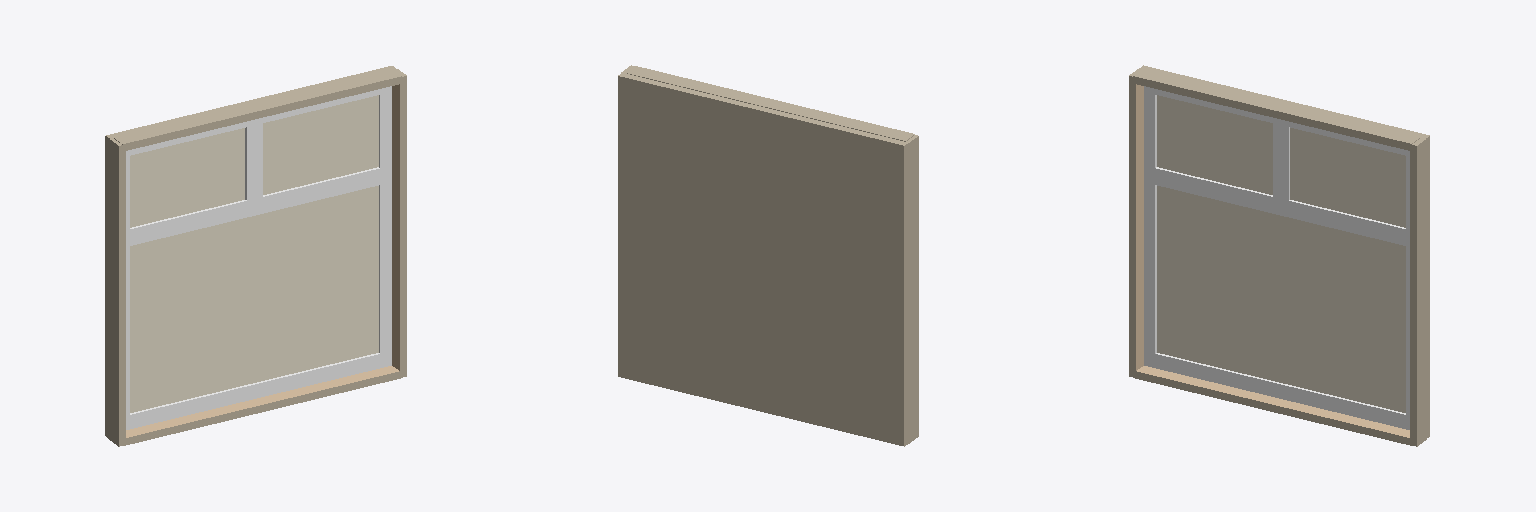
3 renders of one model, left to right at view 1: azimuth 30°, elevation 25°; view 2: azimuth 150°, elevation 25°; view 3: azimuth 330°, elevation 25°, orthographic.
Parts seen in each view (by area): view 1: pasted__polySurface9; view 2: pasted__polySurface9; view 3: pasted__polySurface9.
Part boxes in pixels (bbox=[...]): pasted__polySurface9: bbox=[105, 66, 406, 446]; pasted__polySurface9: bbox=[618, 65, 918, 446]; pasted__polySurface9: bbox=[1129, 65, 1429, 446].
Size of the model in its own units: 0.8987 by 0.9002 by 0.0759.
4 materials, 4 textured.